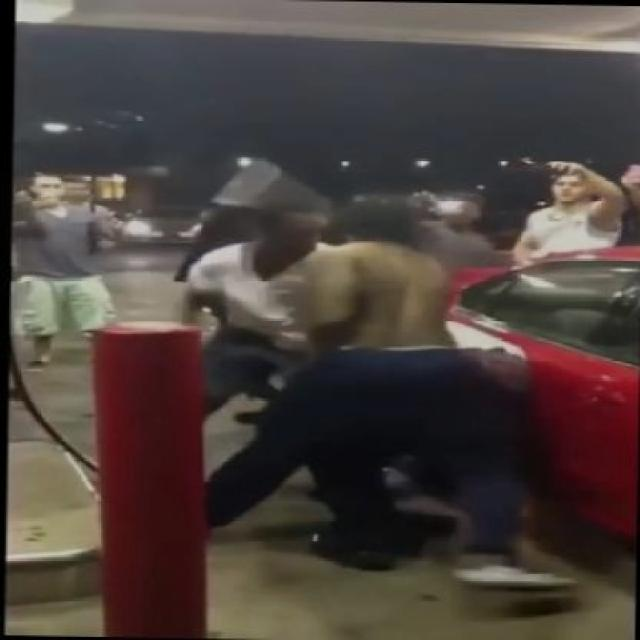fight: (183, 203, 579, 590)
non-fight: (11, 175, 120, 371)
